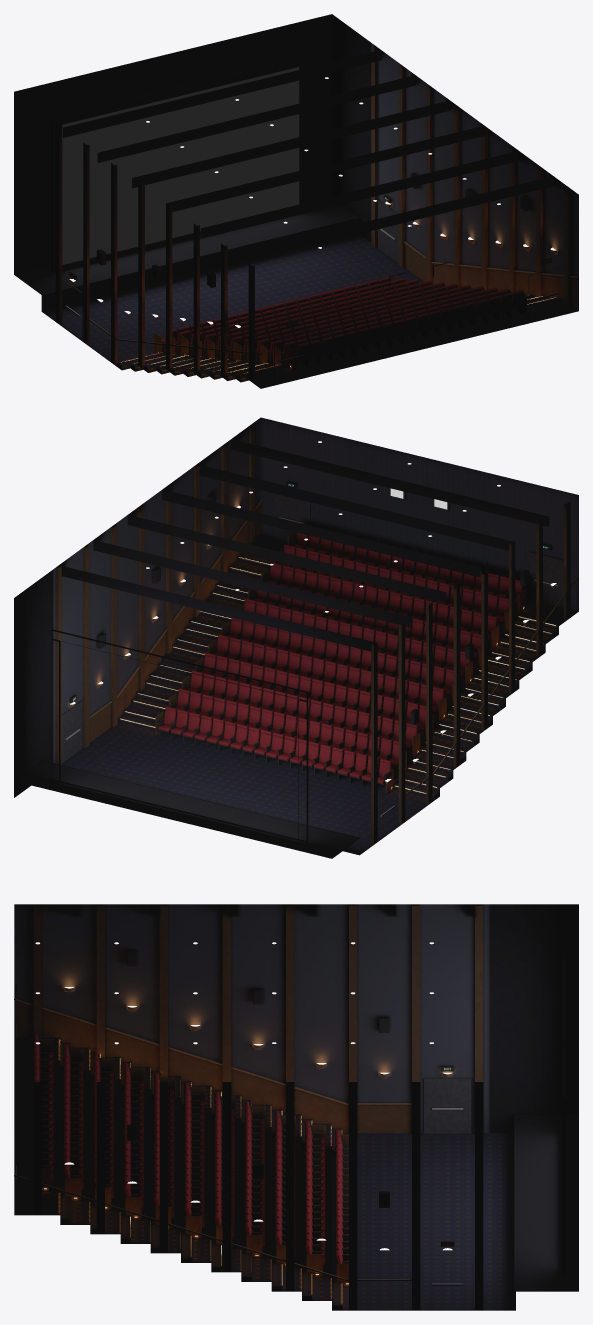
File: movie-theatre.glb
The picture shows the model from 3 angles, top to bottom: view 1: azimuth 30°, elevation 25°; view 2: azimuth 150°, elevation 25°; view 3: azimuth 270°, elevation 25°; orthographic projection. The views are drawn at different scales.
Parts seen in each view (by area): view 1: Room, Screen, Seats; view 2: Room, Seats; view 3: Room, Seats.
Part boxes in pixels (left/top/right/bottom): Room: left=14, top=14, right=578, bottom=388; Screen: left=62, top=67, right=299, bottom=264; Seats: left=162, top=277, right=524, bottom=370; Room: left=14, top=417, right=578, bottom=858; Seats: left=157, top=533, right=523, bottom=790; Room: left=14, top=904, right=578, bottom=1310; Seats: left=33, top=1034, right=348, bottom=1265.
Size of the model in its own units: 16 by 9.6 by 21.51.
Materials: 3 (2 with a texture image).
